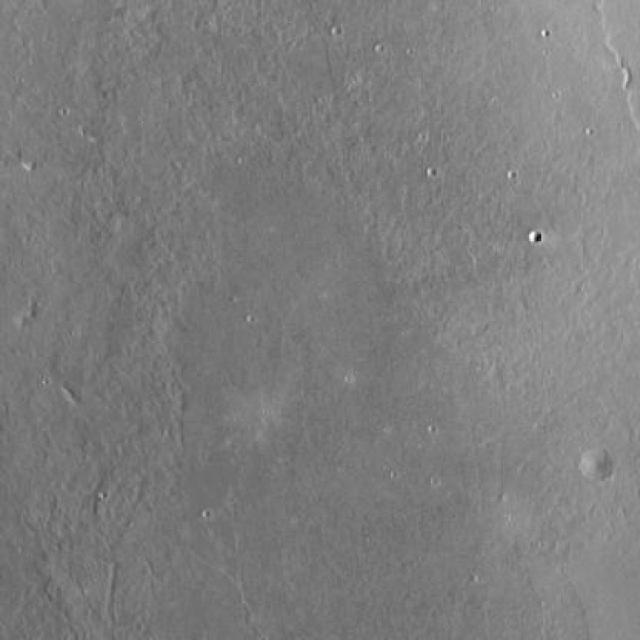crater: (570, 449, 595, 474)
